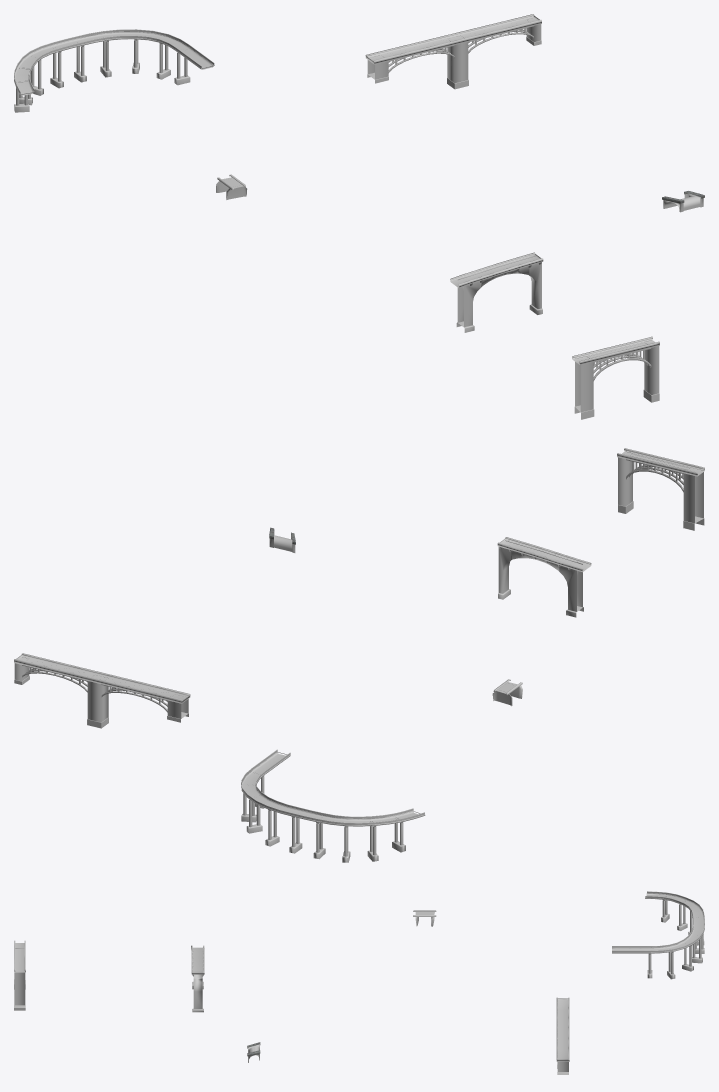
The model's file is bruecken.fbx.
The picture shows the model from 3 angles, top to bottom: view 1: azimuth 30°, elevation 25°; view 2: azimuth 150°, elevation 25°; view 3: azimuth 270°, elevation 25°; orthographic projection. The views are drawn at different scales.
Visible parts, largest first — view 1: Mesh_ncl1_1, Mesh, Mesh_ncl1_5, Mesh_ncl1_4; view 2: Mesh_ncl1_1, Mesh, Mesh_ncl1_5, Mesh_ncl1_4; view 3: Mesh_ncl1_1, Mesh, Mesh_ncl1_5, Mesh_ncl1_4.
Part boxes in pixels (x1,y1,x2,y2): Mesh_ncl1_1: (14,29,214,112); Mesh: (365,14,541,89); Mesh_ncl1_5: (572,336,659,419); Mesh_ncl1_4: (450,252,543,332); Mesh_ncl1_1: (241,749,425,862); Mesh: (14,653,190,728); Mesh_ncl1_5: (617,448,704,530); Mesh_ncl1_4: (497,537,591,617); Mesh_ncl1_1: (612,891,704,979); Mesh: (556,997,569,1074); Mesh_ncl1_5: (14,940,25,1010); Mesh_ncl1_4: (191,945,204,1012).
Size of the model in its own units: 28996 by 3566 by 49811.
